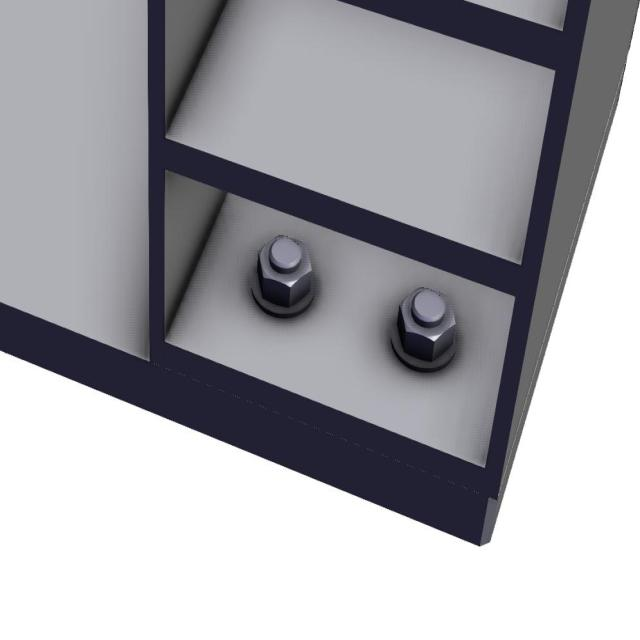bolt nut: (398, 284, 456, 362), (256, 233, 312, 308)
